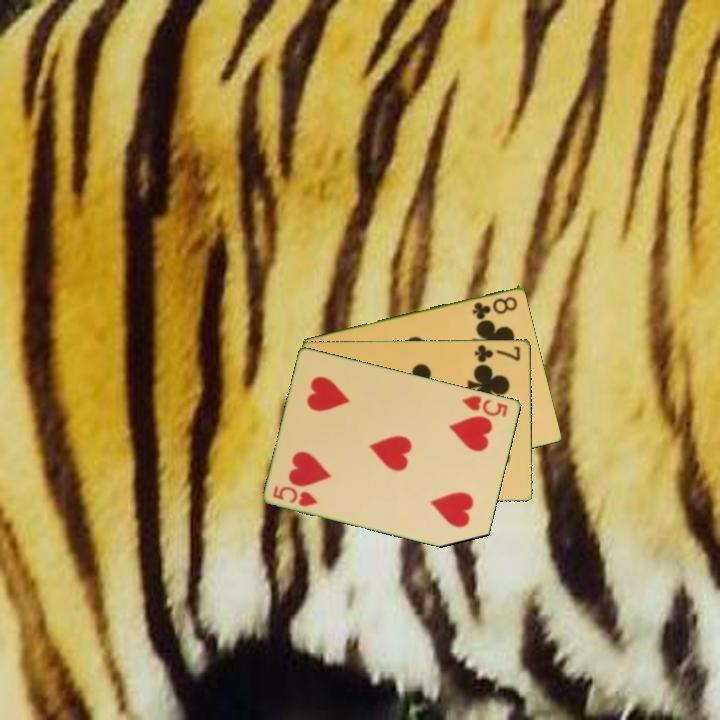5h: (459, 392, 511, 420), (270, 481, 321, 509)
7c: (471, 341, 523, 365)
8c: (469, 293, 520, 322)
